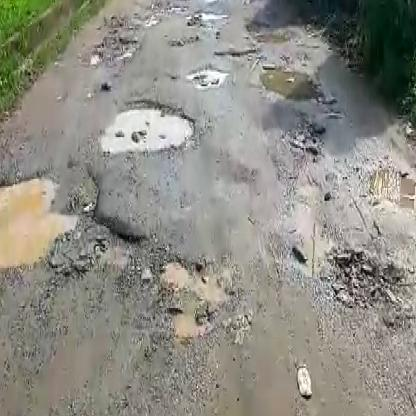pothole: (0, 160, 139, 278), (148, 248, 240, 341), (327, 246, 413, 316), (104, 101, 201, 153), (362, 160, 416, 218), (260, 67, 323, 102), (179, 66, 226, 88), (213, 44, 264, 59), (191, 8, 226, 24)
